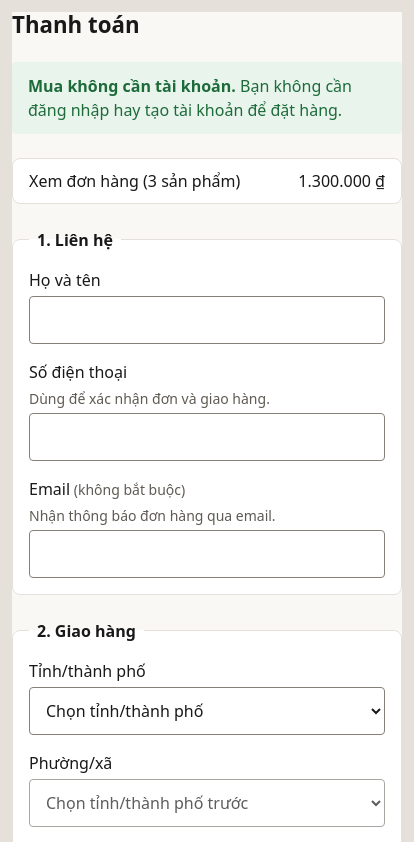
Scenario: CHK02/CHK05: cấu trúc và truy cập › order summary luôn có (mobile: nút thu gọn kèm tổng) và không dùng localStorage
Click the button "Xem đơn hàng (3 sản phẩm) 1.300.000 ₫".
click(207, 181)  # box 13,159 -> 401,203
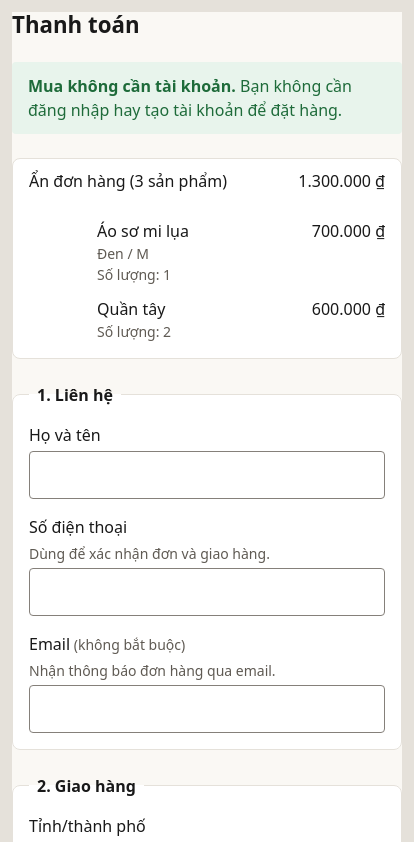
Result: the button "Ẩn đơn hàng (3 sản phẩm) 1.300.000 ₫" is expanded at 13,159 -> 401,203
Result: the text "Áo sơ mi lụa" is shown at 97,220 -> 189,242
